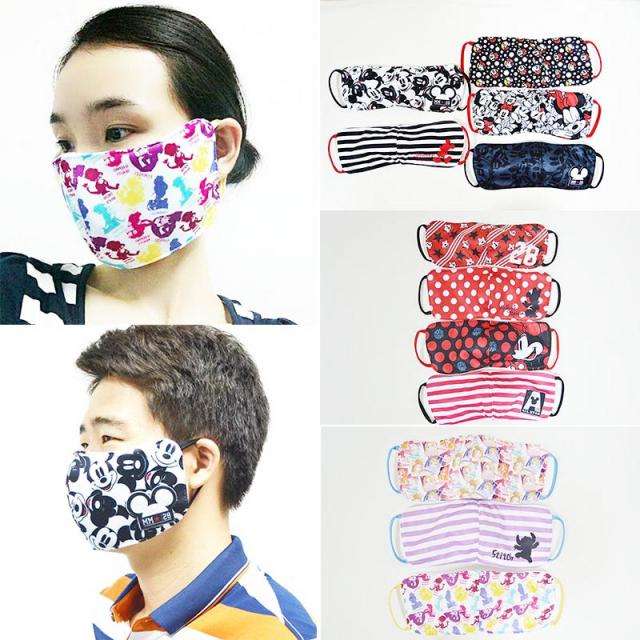mask: (50, 45, 192, 254), (64, 369, 181, 554)
